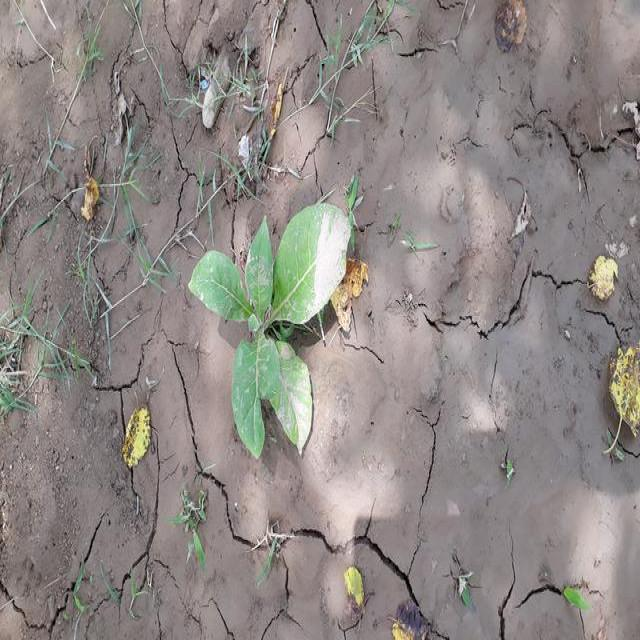crop: (187, 208, 359, 452)
